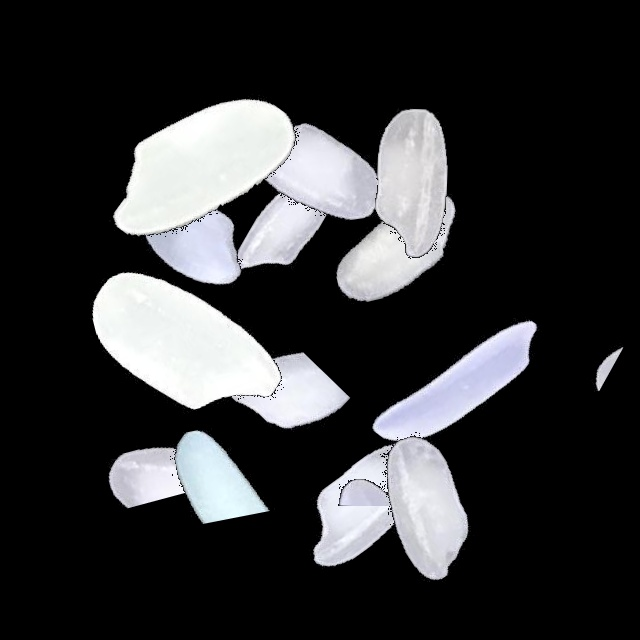Broken: (134, 340, 384, 493), (101, 302, 235, 552), (163, 329, 291, 579), (256, 408, 506, 506), (544, 197, 631, 447)
Full: (161, 98, 411, 348), (71, 116, 321, 366), (333, 256, 583, 506), (186, 50, 436, 300), (242, 378, 492, 628), (271, 125, 521, 375), (302, 381, 552, 631), (287, 59, 537, 309), (58, 213, 308, 463), (74, 42, 324, 292)
